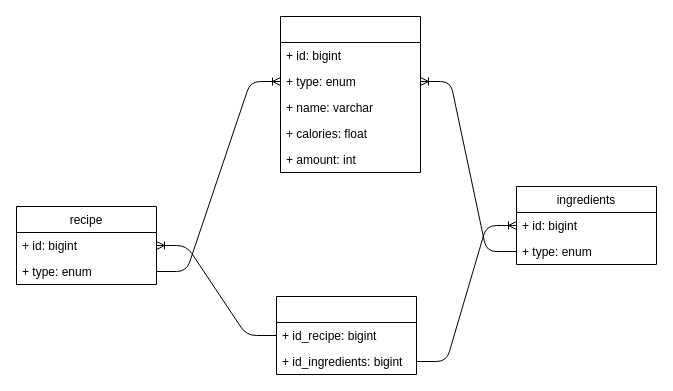
This 673x391 diagram has some shape labels left out. Each missing label, with the box of its shape:
item: (280, 16, 420, 172)
recipe_ingredients: (276, 296, 416, 374)
